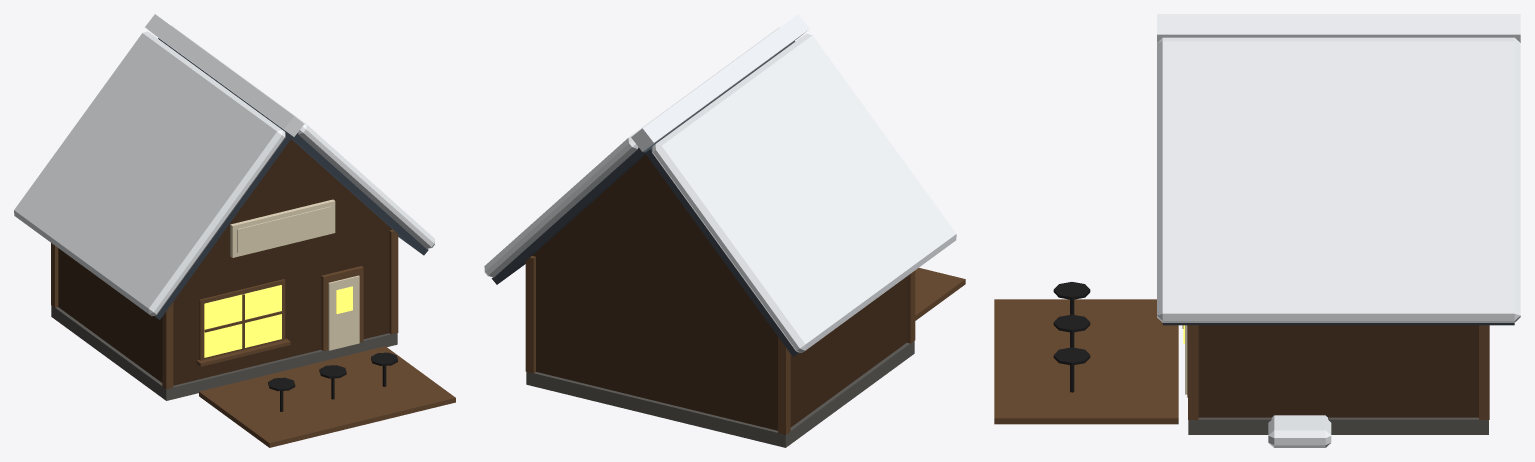
File: cafe-adirondack.glb
The picture shows the model from 3 angles, left to right: view 1: azimuth 30°, elevation 25°; view 2: azimuth 150°, elevation 25°; view 3: azimuth 270°, elevation 25°; orthographic projection. The views are drawn at different scales.
Parts seen in each view (by area): view 1: cafe-adirondack; view 2: cafe-adirondack; view 3: cafe-adirondack.
Boxes of the visible parts, x1,y1,x2,y2 form: cafe-adirondack: (14,14,455,447); cafe-adirondack: (484,14,965,447); cafe-adirondack: (994,14,1520,447).
Bounding box in the file's own units: 8.91 × 7.9 × 10.85.
